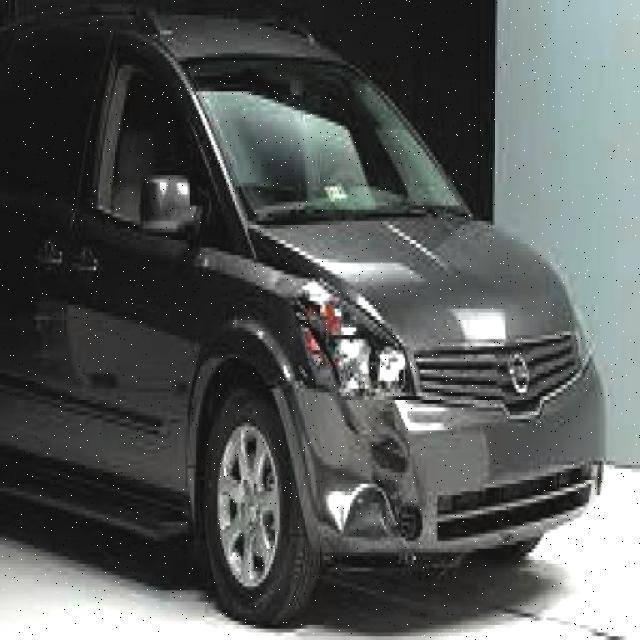car damage: (307, 395, 426, 536)
